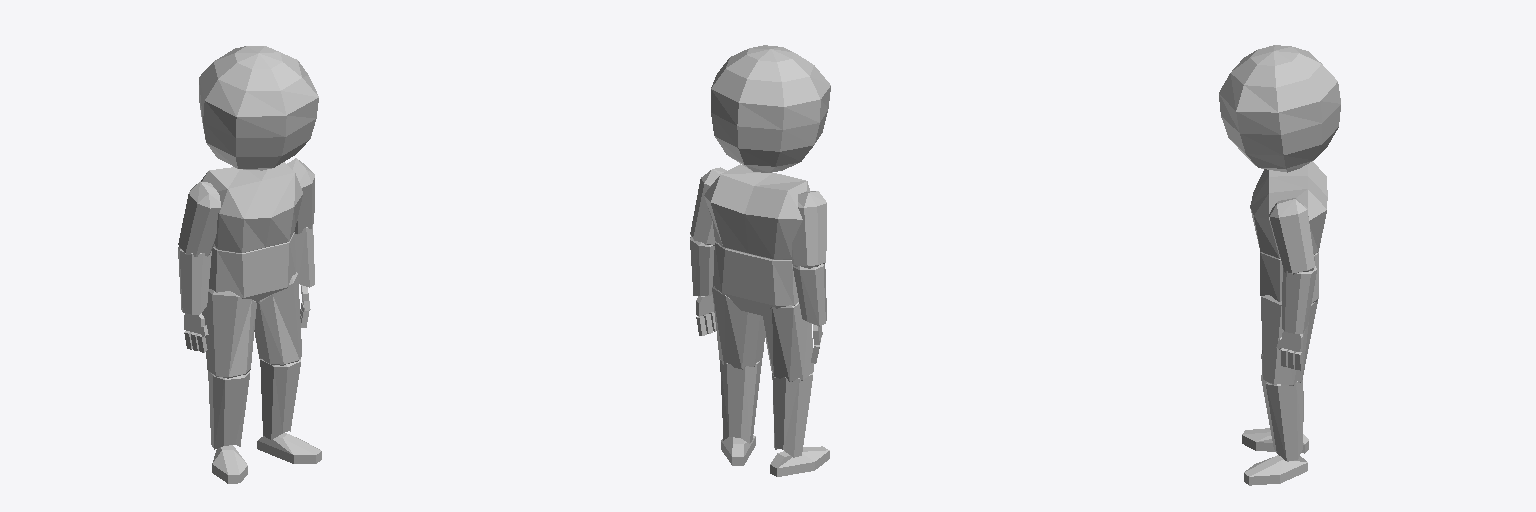
The model's file is Android.obj.
3 renders of one model, left to right at view 1: azimuth 30°, elevation 25°; view 2: azimuth 150°, elevation 25°; view 3: azimuth 270°, elevation 25°, orthographic.
Parts seen in each view (by area): view 1: Android_Android_wp; view 2: Android_Android_wp; view 3: Android_Android_wp.
Boxes of the visible parts, x1=… form: Android_Android_wp: x1=178, y1=46, x2=321, y2=483; Android_Android_wp: x1=690, y1=45, x2=830, y2=476; Android_Android_wp: x1=1219, y1=45, x2=1340, y2=485.
Size of the model in its own units: 0.7844 by 2.33 by 0.6312.